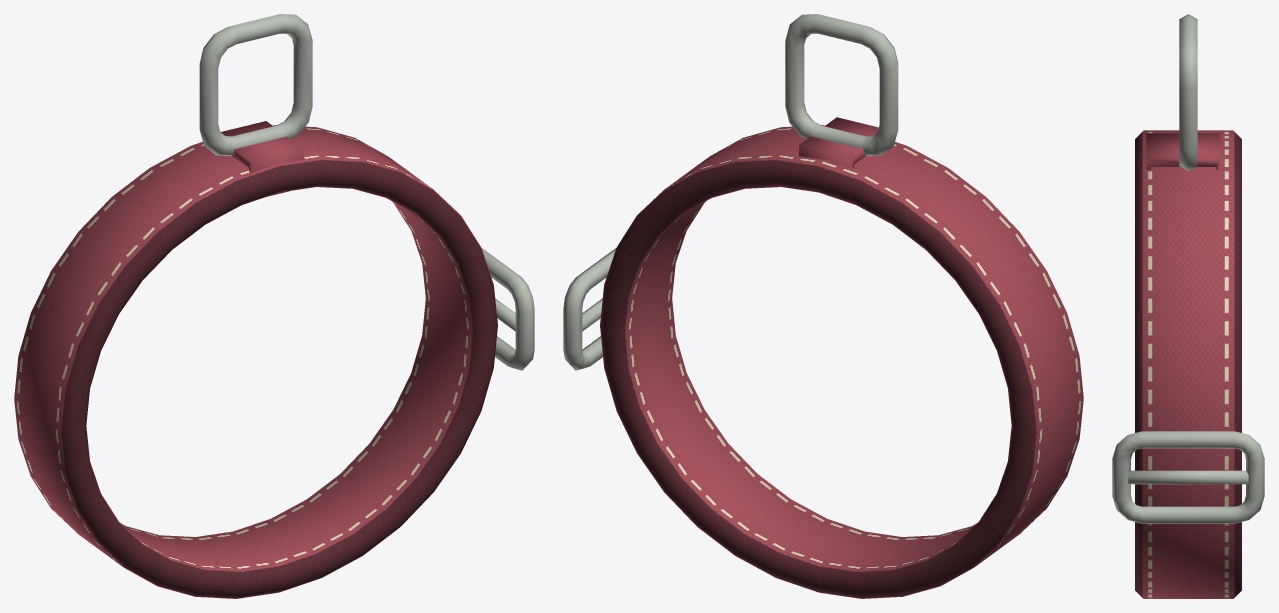
File: KH_Collar_Dachs.fbx
The picture shows the model from 3 angles, left to right: view 1: azimuth 30°, elevation 25°; view 2: azimuth 150°, elevation 25°; view 3: azimuth 270°, elevation 25°; orthographic projection.
Visible parts, largest first — view 1: KH_Collar_Dachs; view 2: KH_Collar_Dachs; view 3: KH_Collar_Dachs.
Boxes of the visible parts, x1,y1,x2,y2 form: KH_Collar_Dachs: [14, 14, 534, 598]; KH_Collar_Dachs: [563, 14, 1083, 598]; KH_Collar_Dachs: [1112, 14, 1264, 598].
Size of the model in its own units: 0.1569 by 0.1807 by 0.0456.
Materials: 1 (1 with a texture image).
